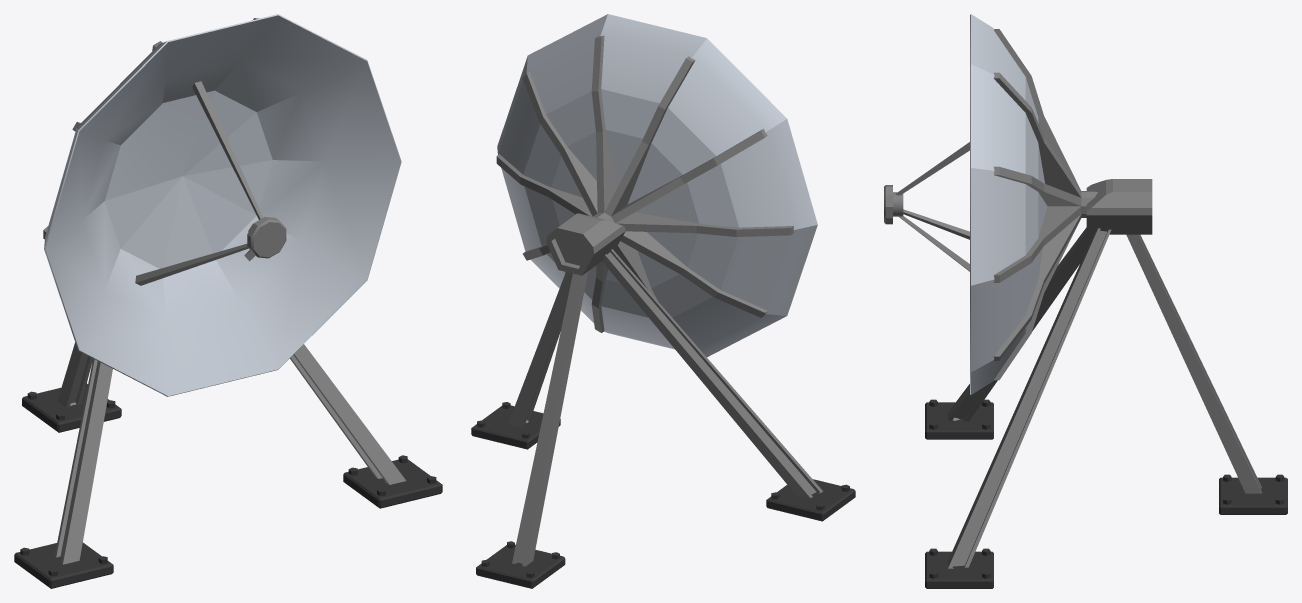
File: model_satalite_dish.fbx
The picture shows the model from 3 angles, left to right: view 1: azimuth 30°, elevation 25°; view 2: azimuth 150°, elevation 25°; view 3: azimuth 270°, elevation 25°; orthographic projection. The views are drawn at different scales.
Visible parts, largest first — view 1: model_dish, model_satalite_dish; view 2: model_dish, model_satalite_dish; view 3: model_dish, model_satalite_dish.
Part boxes in pixels (bbox=[...]): model_dish: bbox=[43, 14, 401, 396]; model_satalite_dish: bbox=[14, 342, 442, 588]; model_dish: bbox=[496, 14, 817, 357]; model_satalite_dish: bbox=[471, 213, 855, 588]; model_dish: bbox=[884, 14, 1097, 394]; model_satalite_dish: bbox=[925, 179, 1287, 588].
Size of the model in its own units: 194 by 234 by 186.
Materials: 1 (1 with a texture image).
